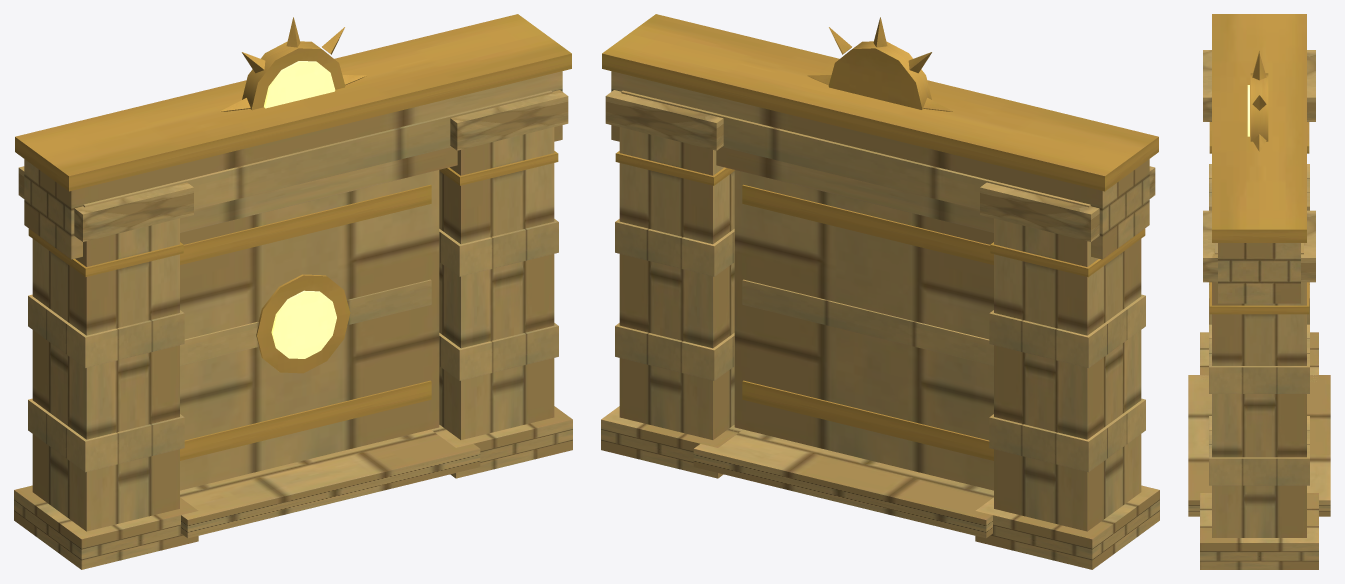
The model's file is sunstone_gate.glb.
3 views of the same model, side by side, from view 1: azimuth 30°, elevation 25°; view 2: azimuth 150°, elevation 25°; view 3: azimuth 270°, elevation 25° (orthographic). The views are drawn at different scales.
Parts seen in each view (by area): view 1: sunstone_gate, DoorLeaf; view 2: sunstone_gate, DoorLeaf; view 3: sunstone_gate.
Boxes of the visible parts, x1,y1,x2,y2 form: sunstone_gate: (14, 14, 572, 569); DoorLeaf: (180, 170, 439, 490); sunstone_gate: (601, 14, 1159, 569); DoorLeaf: (734, 170, 993, 490); sunstone_gate: (1188, 14, 1330, 569).
Size of the model in its own units: 8.6 by 7.65 by 2.4.
3 materials, 3 textured.
